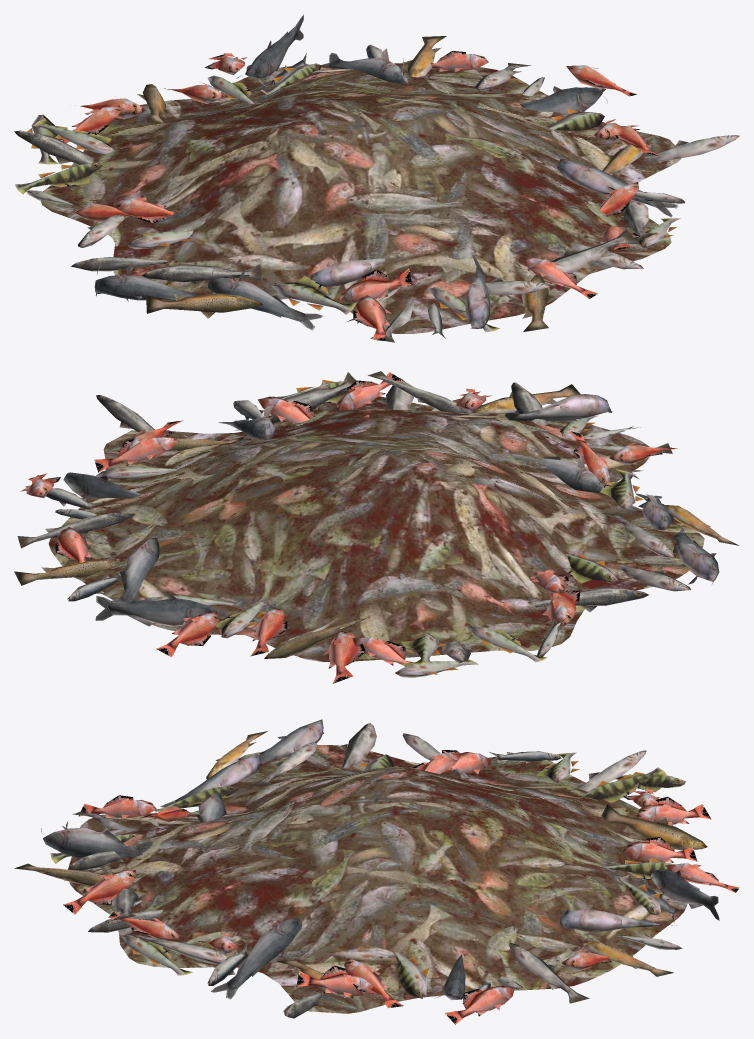
The model's file is fish_pile_200.glb.
3 renders of one model, top to bottom at view 1: azimuth 30°, elevation 25°; view 2: azimuth 150°, elevation 25°; view 3: azimuth 270°, elevation 25°, orthographic. The views are drawn at different scales.
Parts seen in each view (by area): view 1: fish_pile_200_LOD0; view 2: fish_pile_200_LOD0; view 3: fish_pile_200_LOD0.
Part boxes in pixels (x1,y1,x2,y2): fish_pile_200_LOD0: [14, 14, 739, 342]; fish_pile_200_LOD0: [14, 371, 739, 683]; fish_pile_200_LOD0: [14, 719, 739, 1024].
Bounding box in the file's own units: 2.19 × 0.3069 × 2.22.
7 materials, 7 textured.
